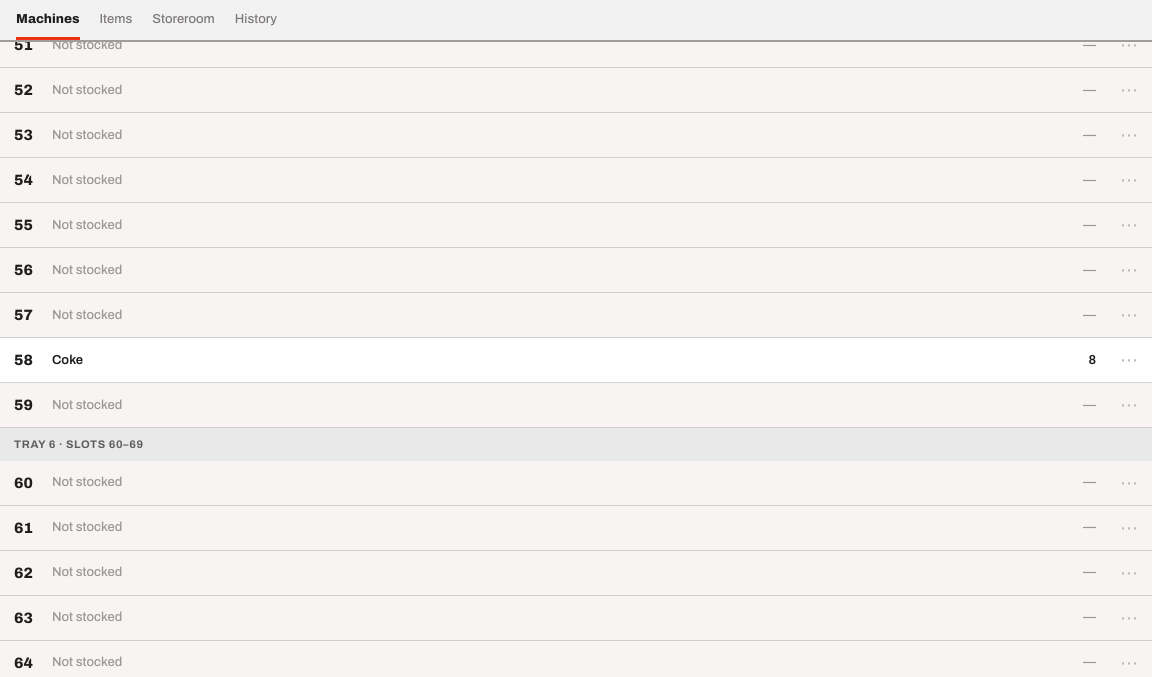
Test: MachineMapScreen › editing the map in place › opens the slot edit sheet from a slot row
(page scrolled)
Check: the field labelled "Capacity" is not shown
Click the button named "Edit slot 58" at (1129, 360), box [1120,346,1138,374]
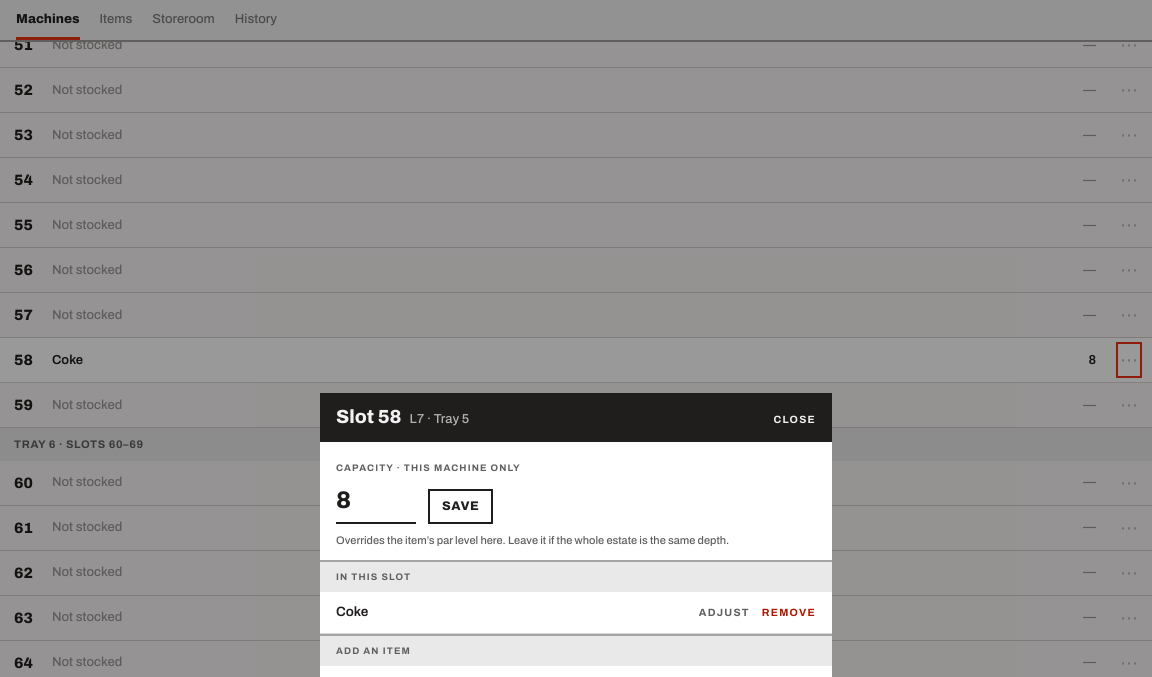
Check: the heading "Slot 58L7 · Tray 5" is shown, box [336,403,469,432]
Check: the number field named "Capacity" is shown, box [336,482,416,524]
